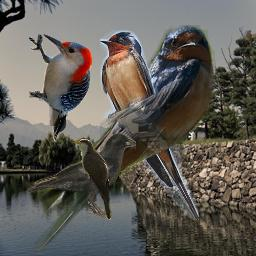Crow: (26, 132, 136, 218)
Cuckoo: (72, 138, 113, 221)
Swallow: (35, 25, 215, 253), (100, 30, 199, 220)
Woodpecker: (29, 34, 92, 142)
